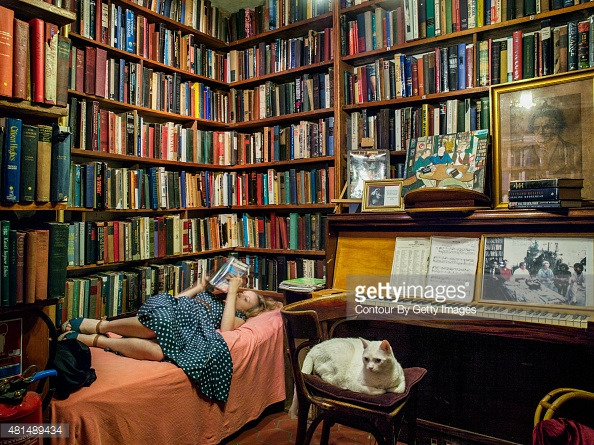deitado: (49, 269, 297, 438)
